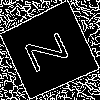Z: (24, 26, 78, 74)
